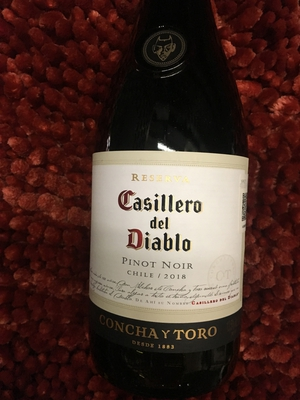casillero del diablo pinot noir: (85, 6, 256, 382)
